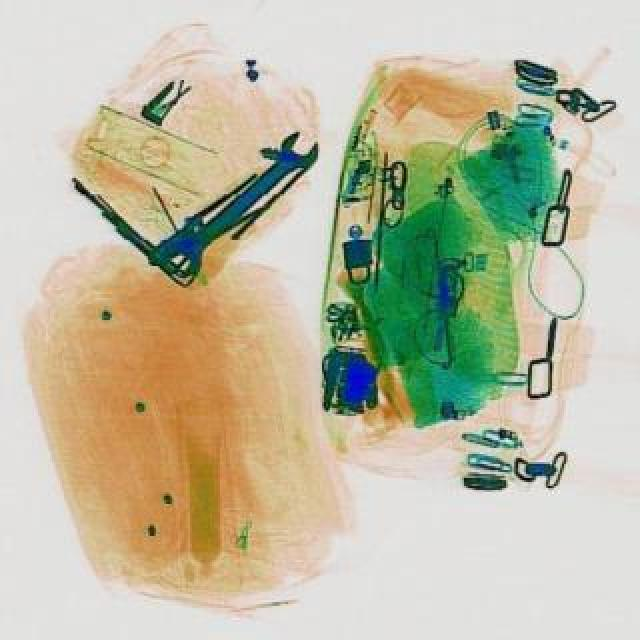scissors: (158, 126, 330, 286)
